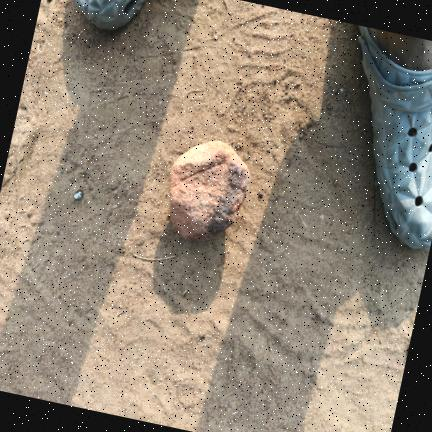Rocks: (169, 140, 248, 240)
